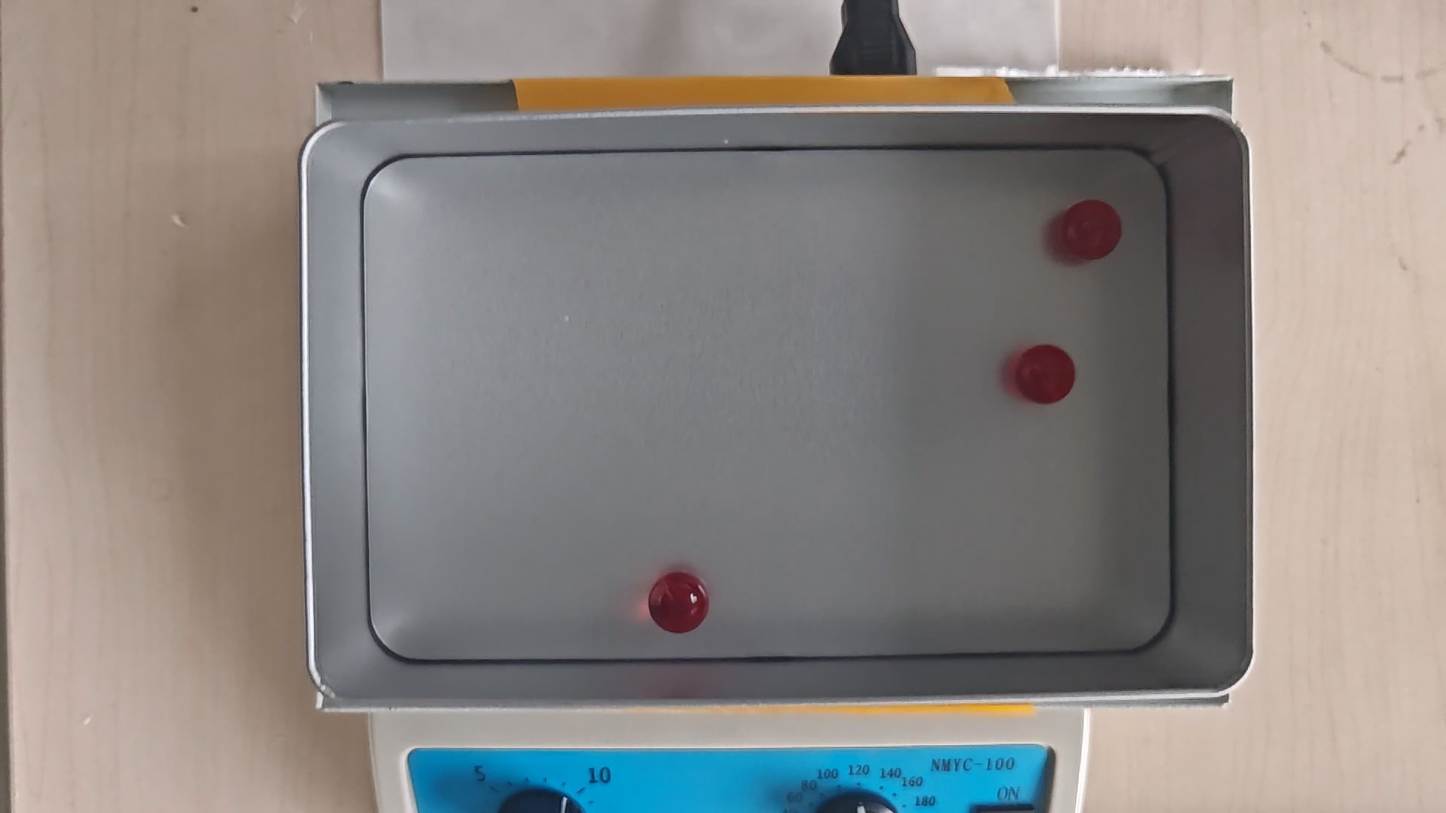ball: (1017, 343, 1078, 405), (649, 573, 708, 632), (1065, 199, 1121, 260)
container: (364, 148, 1171, 659)
